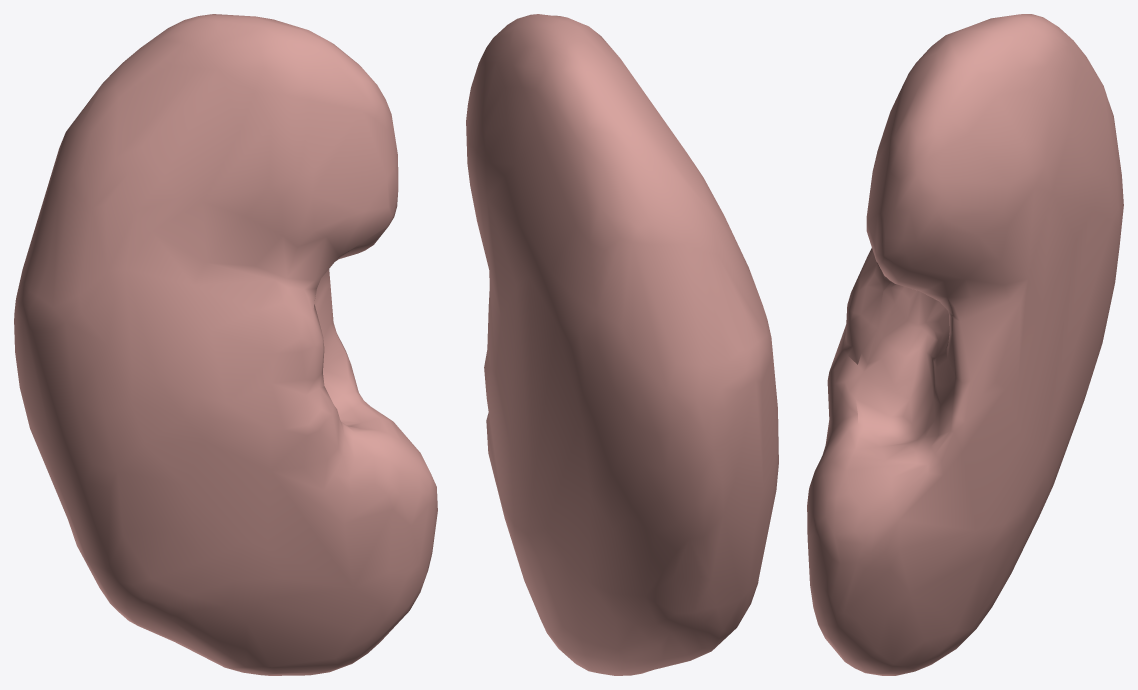
Rendered from rightKidney.glb.
The picture shows the model from 3 angles, left to right: view 1: azimuth 30°, elevation 25°; view 2: azimuth 150°, elevation 25°; view 3: azimuth 270°, elevation 25°; orthographic projection. The views are drawn at different scales.
Parts seen in each view (by area): view 1: rightKidneyMesh; view 2: rightKidneyMesh; view 3: rightKidneyMesh.
Part boxes in pixels (x1,y1,x2,y2): rightKidneyMesh: (14,14,437,675); rightKidneyMesh: (466,14,778,675); rightKidneyMesh: (807,14,1123,675).
Size of the model in its own units: 0.0571 by 0.1043 by 0.0471.
